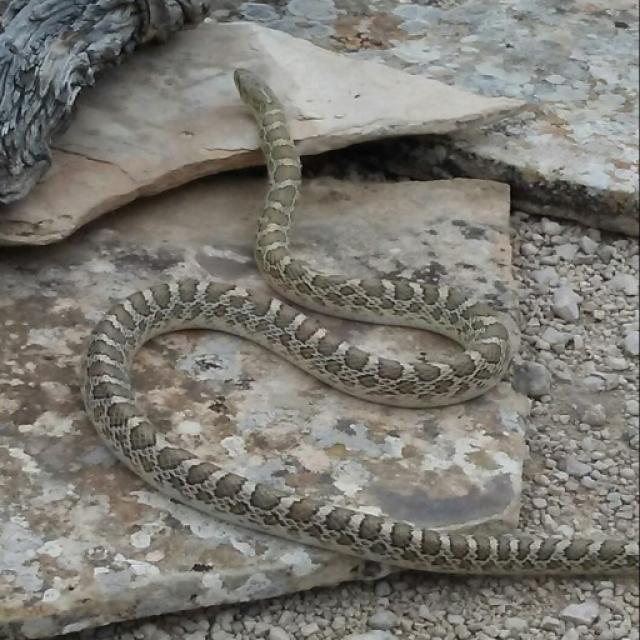snake: (75, 54, 640, 614)
